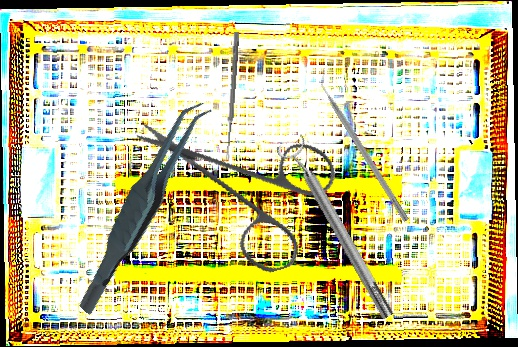Chopper: (314, 70, 417, 223)
Fixation Ring: (274, 132, 402, 326)
Iris Scissors: (133, 74, 359, 299)
Surgical Spoon: (224, 31, 240, 161)
Tissue Forceps: (39, 96, 247, 316)
